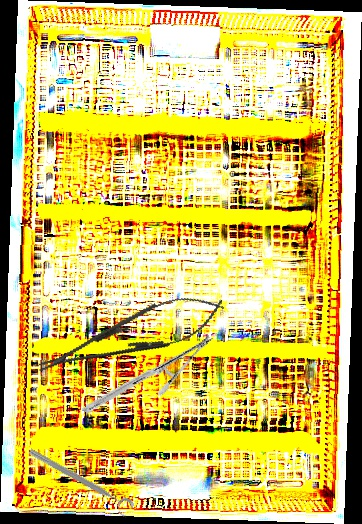Fixation Ring: (23, 445, 136, 520)
Needle Holder: (30, 282, 231, 389), (81, 299, 214, 450)
